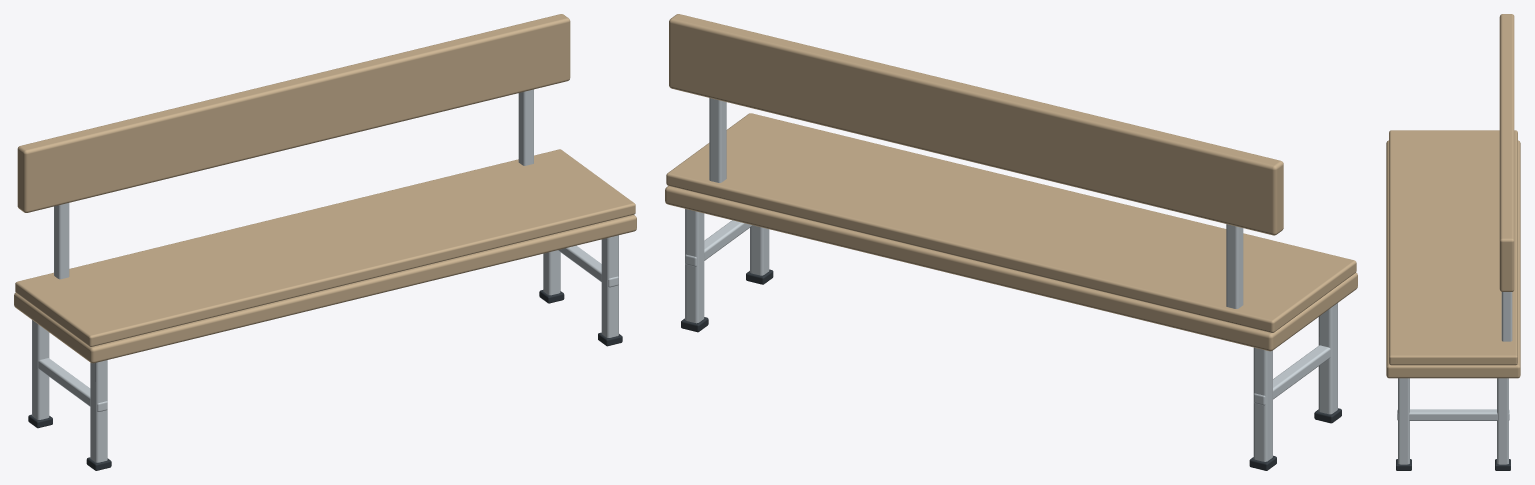
File: curling-club-and-ice-maintenance-spectator-bench-af492498__31286.glb
3 views of the same model, side by side, from view 1: azimuth 30°, elevation 25°; view 2: azimuth 150°, elevation 25°; view 3: azimuth 270°, elevation 25° (orthographic). The views are drawn at different scales.
Visible parts, largest first — view 1: spectator-bench; view 2: spectator-bench; view 3: spectator-bench.
Boxes of the visible parts, <box> form: spectator-bench: <box>14,14,636,470</box>; spectator-bench: <box>665,14,1357,470</box>; spectator-bench: <box>1386,14,1520,470</box>.
Bounding box in the file's own units: 2 × 0.9701 × 0.5001.
